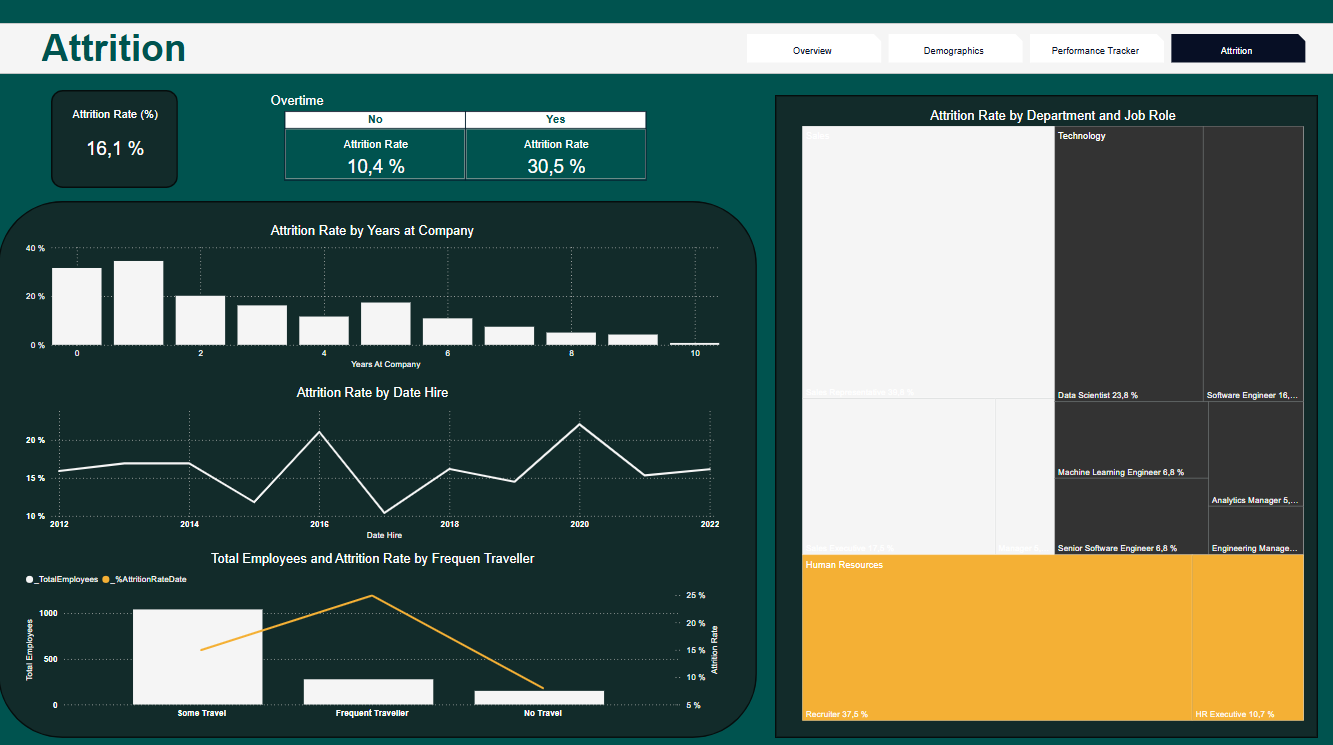

Layout of this report page (visuals, bound fields, positions):
{"tool":"powerbi","page":{"name":"Attrition","canvas":[1920,1080],"ordinal":3},"visuals":[{"type":"shape","box":[84.3,137.1,181.4,140],"z":0},{"type":"shape","box":[1118.6,144.3,775.7,918.6],"z":1000},{"type":"shape","box":[8.6,295.7,1084.3,767.1],"z":2000},{"type":"treemap","title":"Attrition Rate by Department and Job Role","fields":{"Values":["DIm_EducationLevel._AttritionRate"],"Group":["Dim_Employee.Department"],"Details":["Dim_Employee.JobRole"]},"box":[1152.9,162.9,725.7,880],"z":3000},{"type":"cardVisual","title":"Overtime","fields":{"Data":["DIm_EducationLevel._AttritionRate"],"Rows":["Dim_Employee.OverTime"]},"box":[392.9,141.4,567.1,130],"z":4000},{"type":"lineChart","title":"Attrition Rate by Date Hire","fields":{"Y":["_Measures._%AttritionRateDate"],"Category":["DimDate.Date.Variation.Date Hierarchy.Year","DimDate.Date.Variation.Date Hierarchy.Quarter","DimDate.Date.Variation.Date Hierarchy.Month","DimDate.Date.Variation.Date Hierarchy.Day"]},"box":[42.9,558.6,1001.4,225.7],"z":5000},{"type":"lineStackedColumnComboChart","title":"Total Employees and Attrition Rate by Frequen Traveller","fields":{"Y2":["_Measures._%AttritionRateDate"],"Y":["_Measures._TotalEmployees"],"Category":["Dim_Employee.BusinessTravel"]},"box":[42.9,795.7,1001.4,247.1],"z":6000},{"type":"card","title":"Attrition Rate (%)","fields":{"Values":["DIm_EducationLevel._AttritionRate"]},"box":[94.3,162.9,162.9,100],"z":7000},{"type":"clusteredColumnChart","title":"Attrition Rate by Years at Company","fields":{"Category":["Dim_Employee.YearsAtCompany"],"Y":["DIm_EducationLevel._AttritionRate"]},"box":[42.9,327.1,1001.4,212.9],"z":8000},{"type":"shape","box":[0,41.7,1920.3,72.7],"z":9000},{"type":"pageNavigator","box":[1078.6,57.1,800,41.4],"z":10000},{"type":"textbox","box":[65.7,41.4,567.1,92.9],"z":11000}]}

Visuals, with their boxes in screenshot pixels (x1, y1, x2, y2), scaled from the page's 1920x1080 canvas onto the 1333x745 screenshot:
shape: 59, 95, 184, 191
shape: 777, 100, 1315, 733
shape: 6, 204, 759, 733
"Attrition Rate by Department and Job Role" treemap: 800, 112, 1304, 719
"Overtime" cardVisual: 273, 98, 666, 187
"Attrition Rate by Date Hire" lineChart: 30, 385, 725, 541
"Total Employees and Attrition Rate by Frequen Traveller" lineStackedColumnComboChart: 30, 549, 725, 719
"Attrition Rate (%)" card: 65, 112, 179, 181
"Attrition Rate by Years at Company" clusteredColumnChart: 30, 226, 725, 372
shape: 0, 29, 1332, 79
pageNavigator: 749, 39, 1304, 68
textbox: 46, 29, 439, 93
